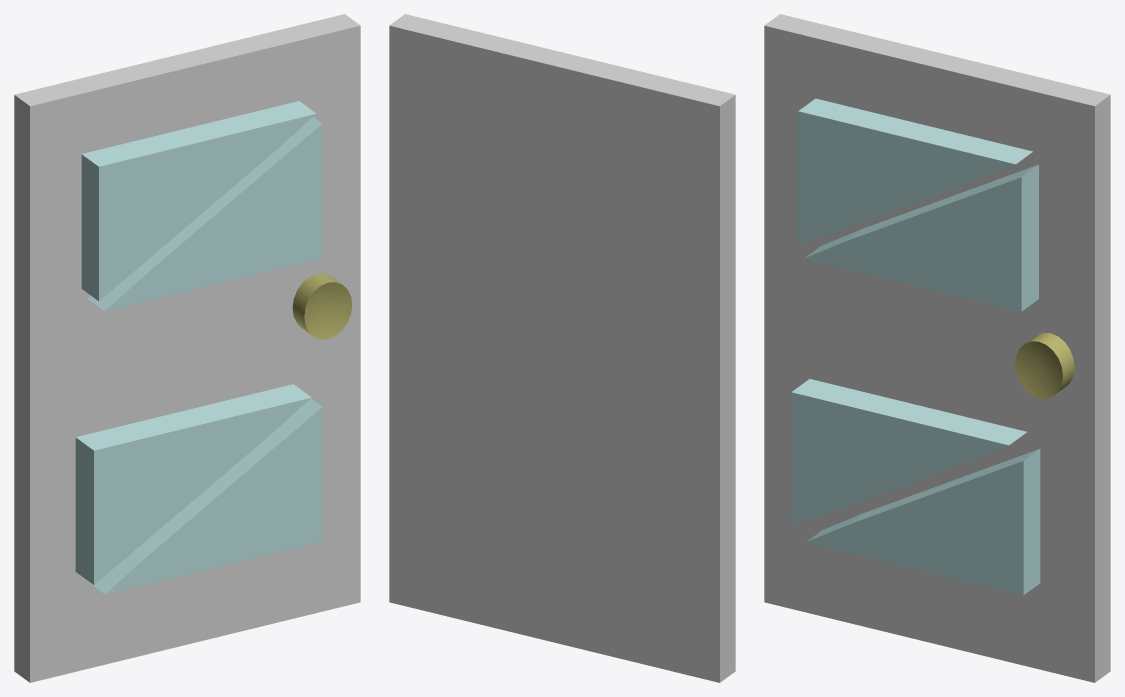
Rendered from EB-door2.fbx.
3 renders of one model, left to right at view 1: azimuth 30°, elevation 25°; view 2: azimuth 150°, elevation 25°; view 3: azimuth 330°, elevation 25°, orthographic.
Visible parts, largest first — view 1: pCube6, pasted__pCube2 (×2), pasted__pasted__pCube2, pCube2, pCylinder1; view 2: pCube6; view 3: pCube6, pasted__pCube2 (×2), pasted__pasted__pCube2, pCube2, pCylinder1.
Boxes of the visible parts, left/top/right/bottom form: pCube6: left=14, top=14, right=360, bottom=682; pasted__pCube2 (×2): left=81, top=101, right=322, bottom=594; pasted__pasted__pCube2: left=75, top=384, right=311, bottom=584; pCube2: left=87, top=117, right=322, bottom=311; pCylinder1: left=292, top=273, right=352, bottom=339; pCube6: left=389, top=14, right=735, bottom=682; pCube6: left=764, top=14, right=1110, bottom=682; pasted__pCube2 (×2): left=798, top=98, right=1040, bottom=595; pasted__pasted__pCube2: left=791, top=379, right=1026, bottom=526; pCube2: left=804, top=164, right=1038, bottom=311; pCylinder1: left=1015, top=332, right=1074, bottom=398.
Size of the model in its own units: 6 by 10 by 1.08.
